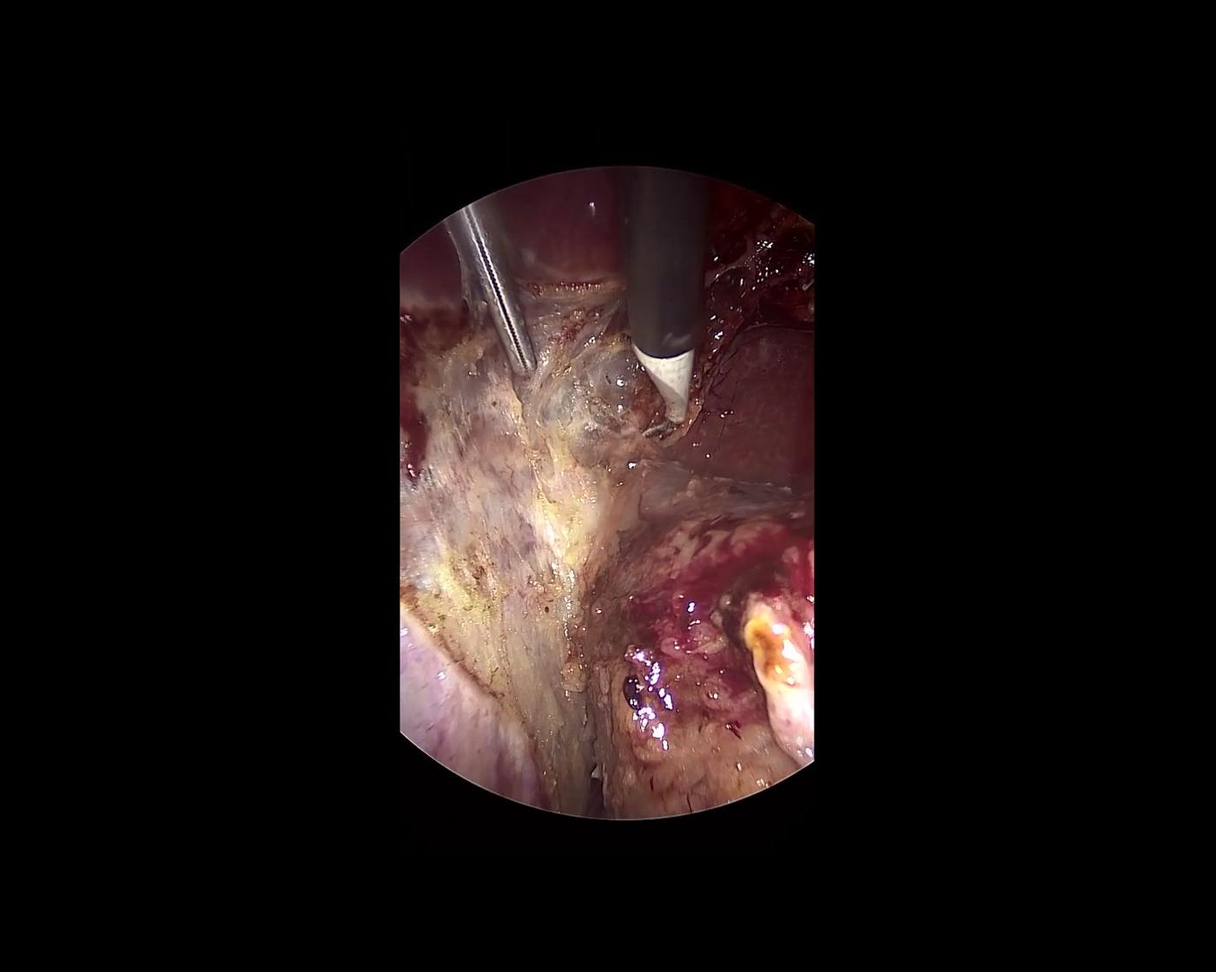Cautery: (609, 168, 709, 442)
Forceps: (444, 193, 542, 381)
Gallbladder: (583, 456, 813, 815)
Liver: (639, 311, 817, 481), (494, 163, 636, 287)
